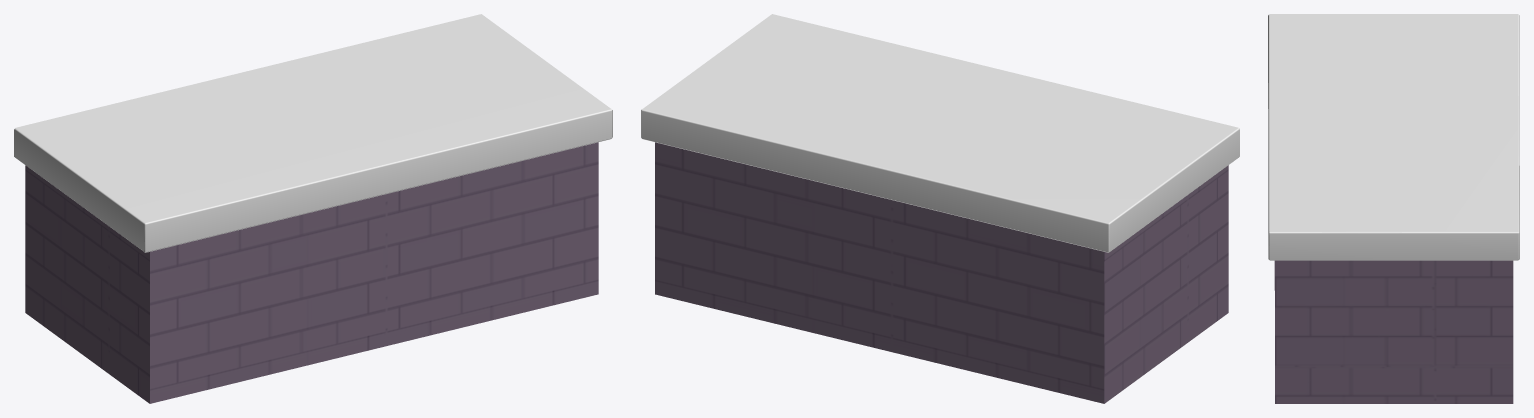
Rendered from wall3 (1).fbx.
3 views of the same model, side by side, from view 1: azimuth 30°, elevation 25°; view 2: azimuth 150°, elevation 25°; view 3: azimuth 270°, elevation 25° (orthographic). The views are drawn at different scales.
Visible parts, largest first — view 1: polySurface1, polySurface2; view 2: polySurface1, polySurface2; view 3: polySurface2, polySurface1.
Boxes of the visible parts, x1,y1,x2,y2 form: polySurface1: (25,142,598,403); polySurface2: (14,14,612,252); polySurface1: (655,142,1228,403); polySurface2: (641,14,1239,252); polySurface2: (1268,14,1519,260); polySurface1: (1274,260,1513,403).
Bounding box in the file's own units: 401 × 151 × 195.
